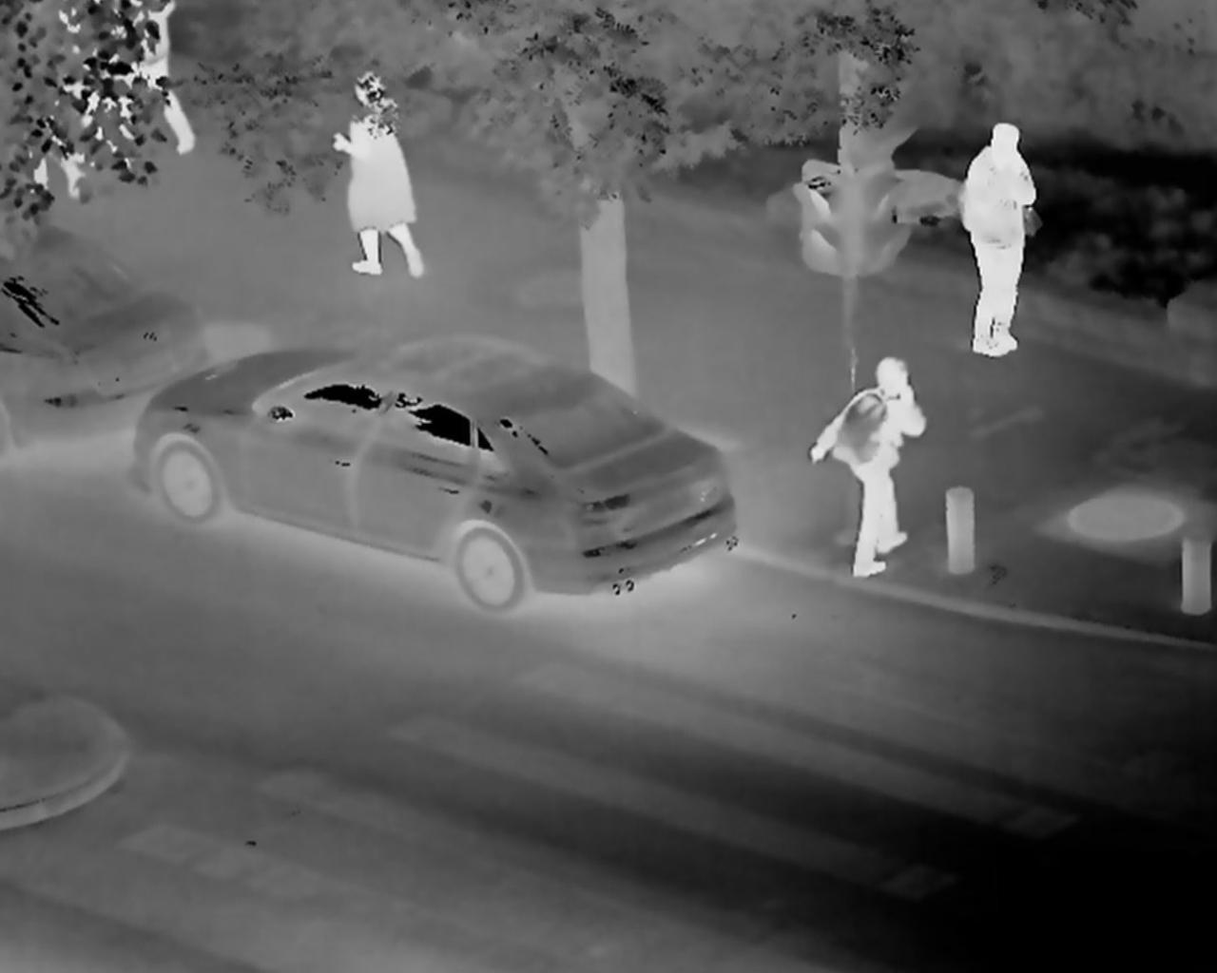person: (801, 348, 938, 582), (324, 70, 441, 286), (949, 119, 1043, 368), (30, 14, 100, 212), (106, 2, 193, 153)
